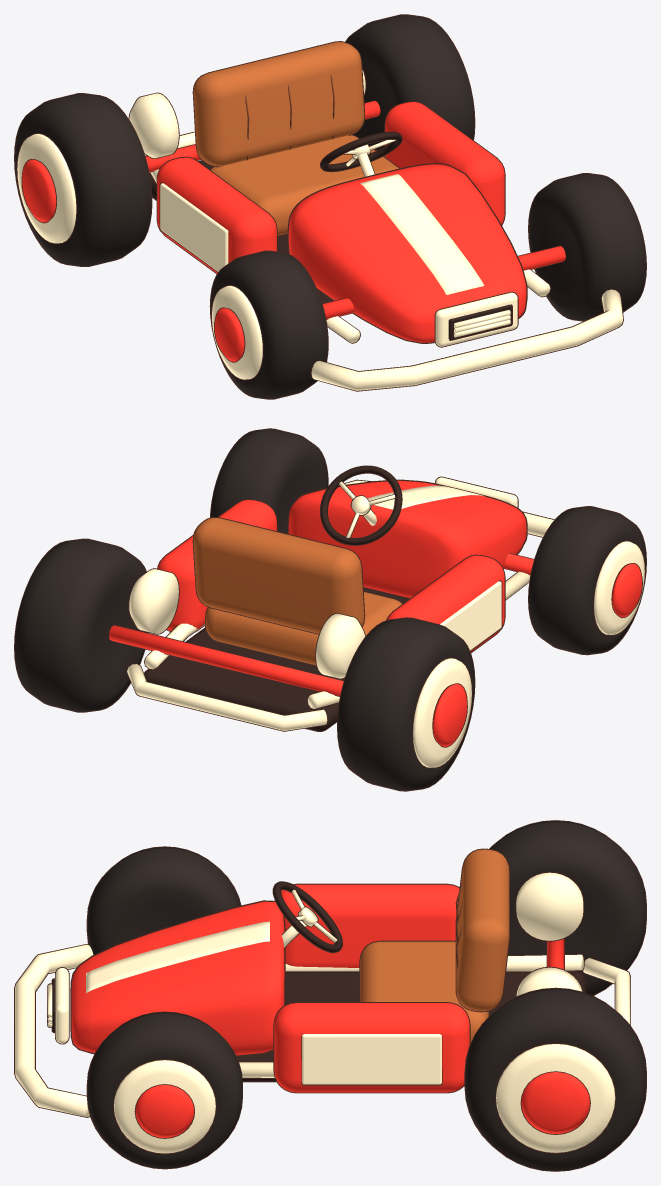
File: gokart.glb
The picture shows the model from 3 angles, top to bottom: view 1: azimuth 30°, elevation 25°; view 2: azimuth 150°, elevation 25°; view 3: azimuth 270°, elevation 25°; orthographic projection. The views are drawn at different scales.
Parts seen in each view (by area): view 1: Body_Mesh, Tire_Mesh.001, Cube.006, Tire_Mesh, Tire_Mesh.002, Tire_Mesh.003, Bumper_Front_Curve, Cube.005, Cube.003, Cube.001, Hood_Cream_Stripe, Cube.002 (+12 smaller); view 2: Tire_Mesh.001, Tire_Mesh.003, Body_Mesh, Cube.006, Tire_Mesh, Tire_Mesh.002, Cube, Cube.005, Cube.001, Axle_Beam_Curve.001, Bumper_Rear_Curve, Cube.003 (+14 smaller); view 3: Tire_Mesh.003, Tire_Mesh.002, Body_Mesh, Tire_Mesh.001, Tire_Mesh, Cube.001, Cube.003, Cube.006, Cube.004, Cube.005, Bumper_Front_Curve, Hood_Cream_Stripe (+14 smaller).
Boxes of the visible parts, x1,y1,x2,y2 form: Body_Mesh: (288,164,526,342); Tire_Mesh.001: (14,94,151,266); Cube.006: (193,42,364,166); Tire_Mesh: (210,251,327,398); Tire_Mesh.002: (528,173,646,320); Tire_Mesh.003: (346,15,474,149); Bumper_Front_Curve: (311,289,622,390); Cube.005: (211,135,398,235); Cube.003: (385,102,504,224); Cube.001: (157,157,276,273); Hood_Cream_Stripe: (360,174,484,295); Cube.002: (160,183,228,271); Tire_Mesh.001: (337,618,474,790); Tire_Mesh.003: (14,539,148,711); Body_Mesh: (288,480,526,598); Cube.006: (193,518,364,633); Tire_Mesh: (528,507,646,654); Tire_Mesh.002: (210,429,327,533); Cube: (144,587,409,731); Cube.005: (205,592,401,665); Cube.001: (387,555,504,652); Axle_Beam_Curve.001: (109,625,343,696); Bumper_Rear_Curve: (127,664,327,730); Cube.003: (158,500,276,631); Tire_Mesh.003: (465,988,645,1170); Tire_Mesh.002: (87,1012,242,1168); Body_Mesh: (71,901,284,1055); Tire_Mesh.001: (490,821,645,995); Tire_Mesh: (87,847,240,954); Cube.001: (281,884,459,967); Cube.003: (274,1003,469,1092); Cube.006: (456,849,509,1011); Cube.004: (302,1034,441,1084); Cube.005: (360,941,488,1042); Bumper_Front_Curve: (15,944,93,1116); Hood_Cream_Stripe: (86,921,269,993).
Bounding box in the file's own units: 1.78 × 0.7391 × 2.17.
